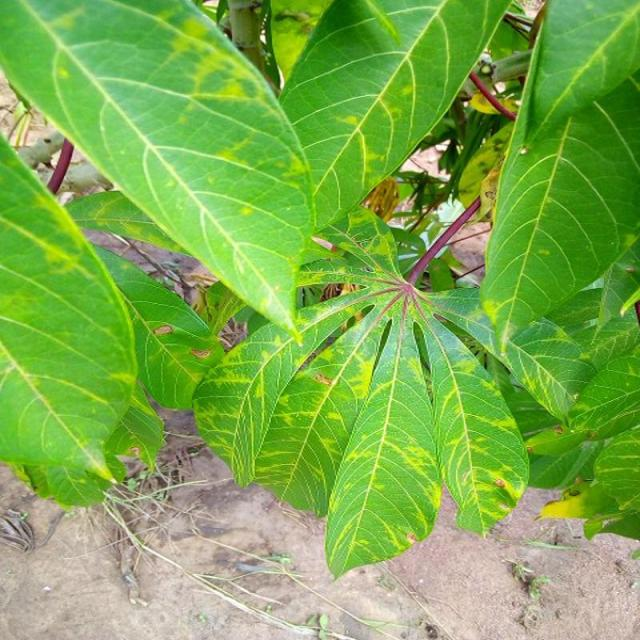cassava leaf: (0, 0, 638, 579), (0, 0, 315, 345), (478, 0, 639, 365), (272, 0, 512, 235), (0, 129, 140, 510)
